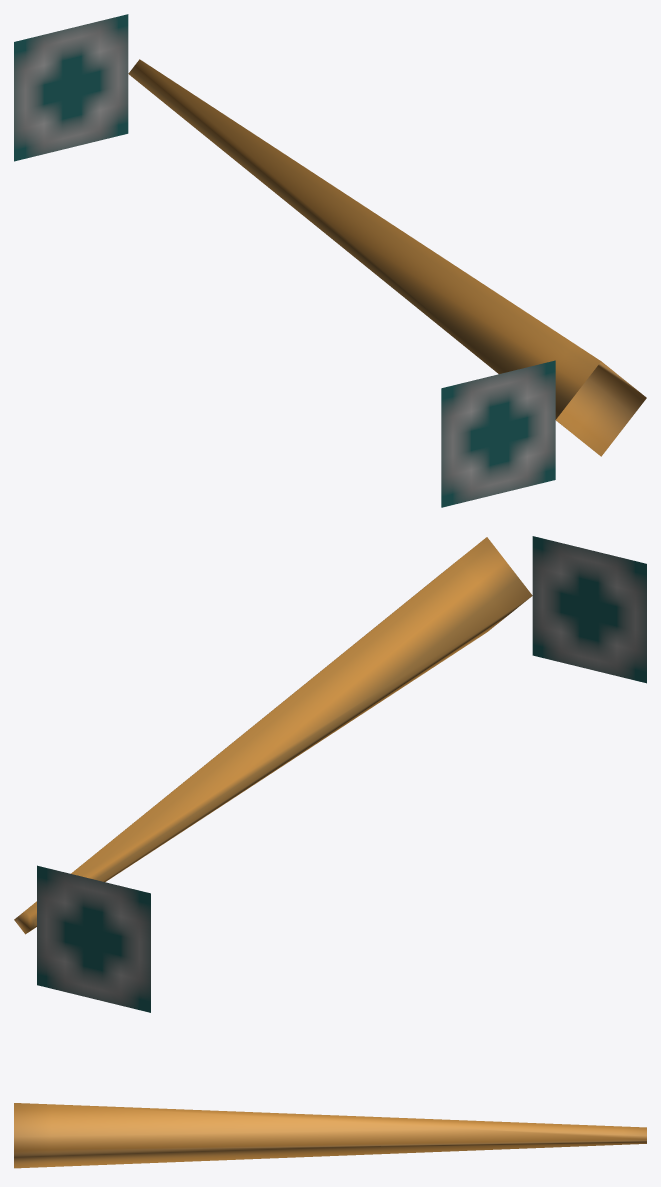
The model's file is batch_0094.obj.
3 views of the same model, one above another, from view 1: azimuth 30°, elevation 25°; view 2: azimuth 150°, elevation 25°; view 3: azimuth 270°, elevation 25° (orthographic). The views are drawn at different scales.
Visible parts, largest first — view 1: batch_0094; view 2: batch_0094; view 3: batch_0094.
Boxes of the visible parts, left/top/right/bottom form: batch_0094: left=14, top=14, right=646, bottom=507; batch_0094: left=14, top=536, right=646, bottom=1012; batch_0094: left=14, top=1103, right=646, bottom=1168.
Size of the model in its own units: 9 by 5 by 35.
Materials: 1 (1 with a texture image).
